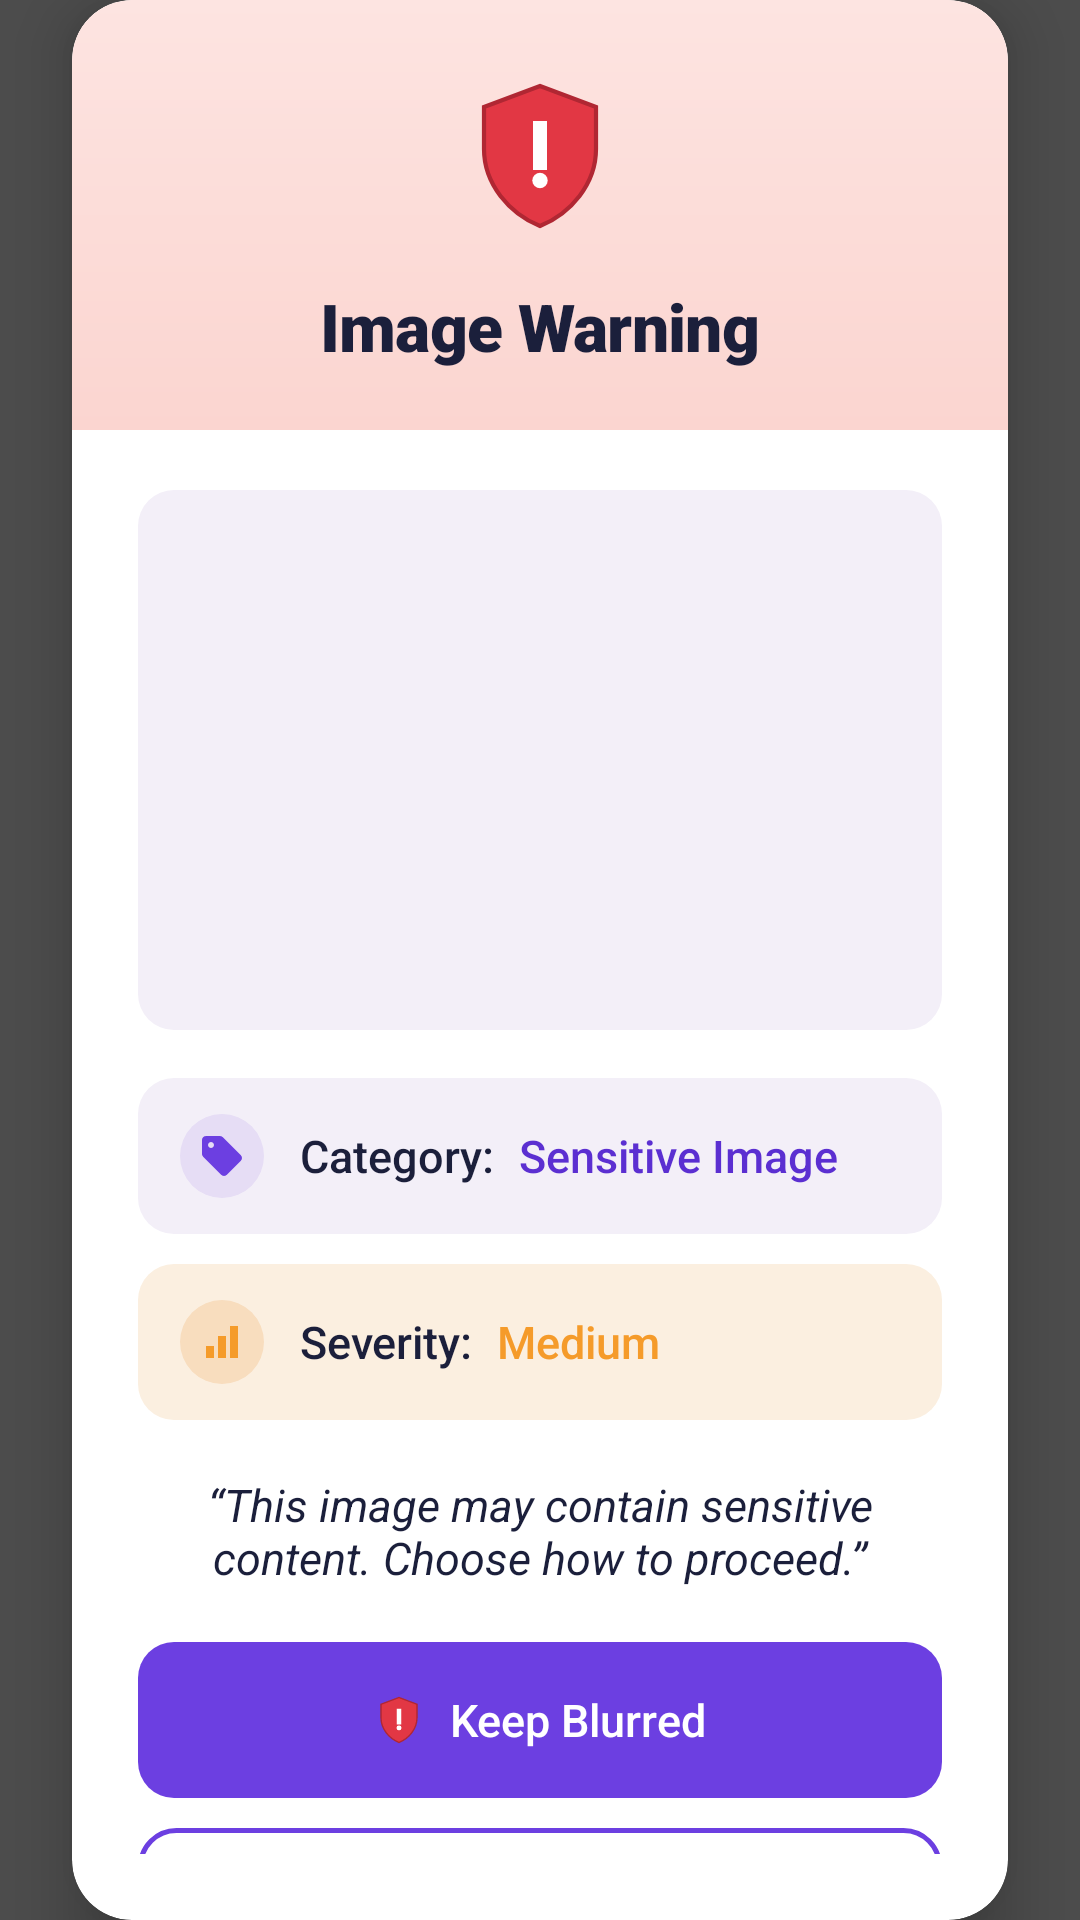

Point at icon controls on the screen. Image size 1080w x 1920h, points as point (x, y).
SendWise warning shield: point (540, 156)
tag: point (222, 1156)
